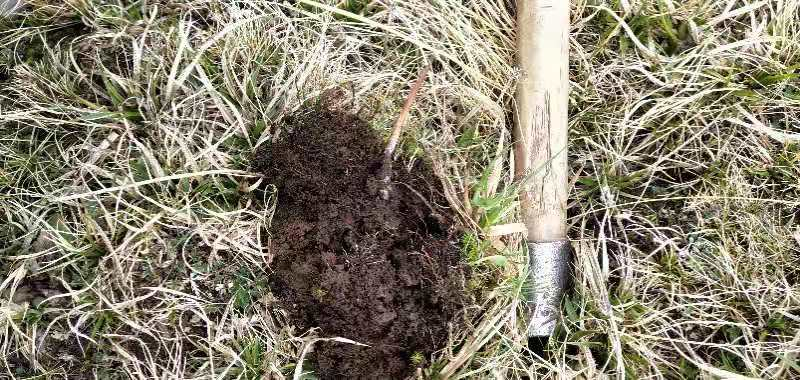cpf: (377, 63, 435, 182)
